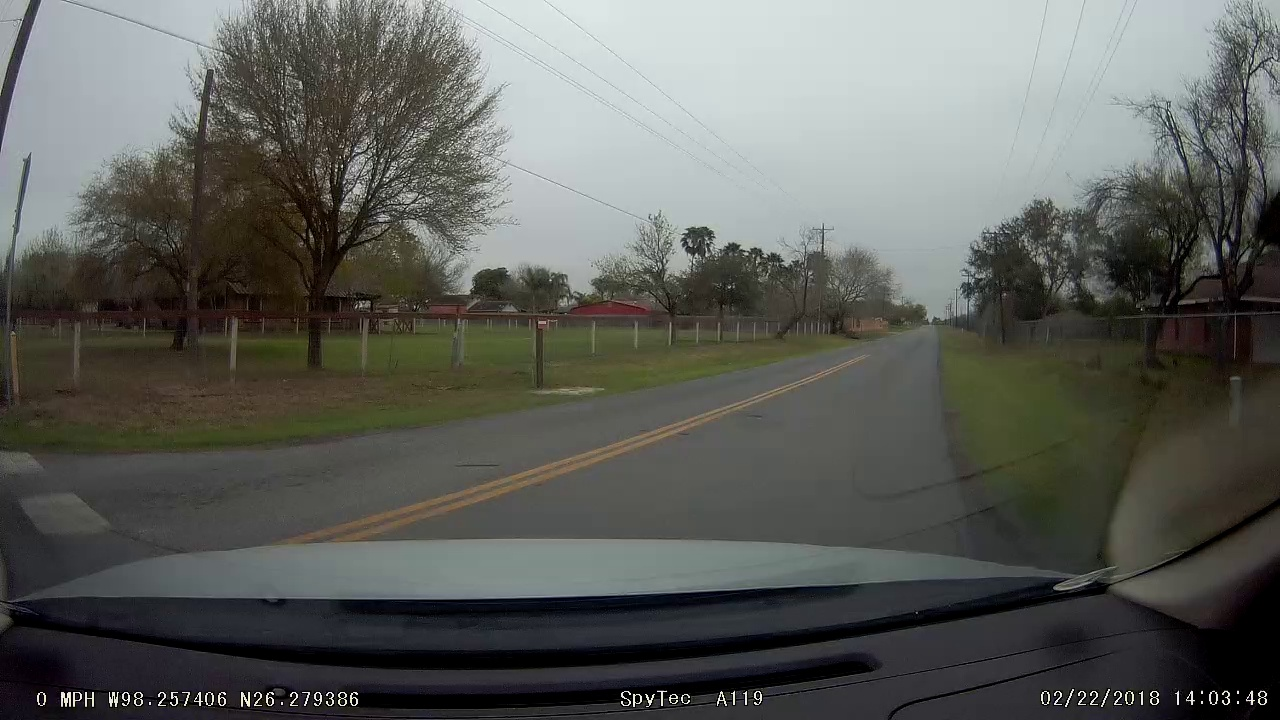pothole: (454, 457, 506, 473), (734, 411, 769, 427)
